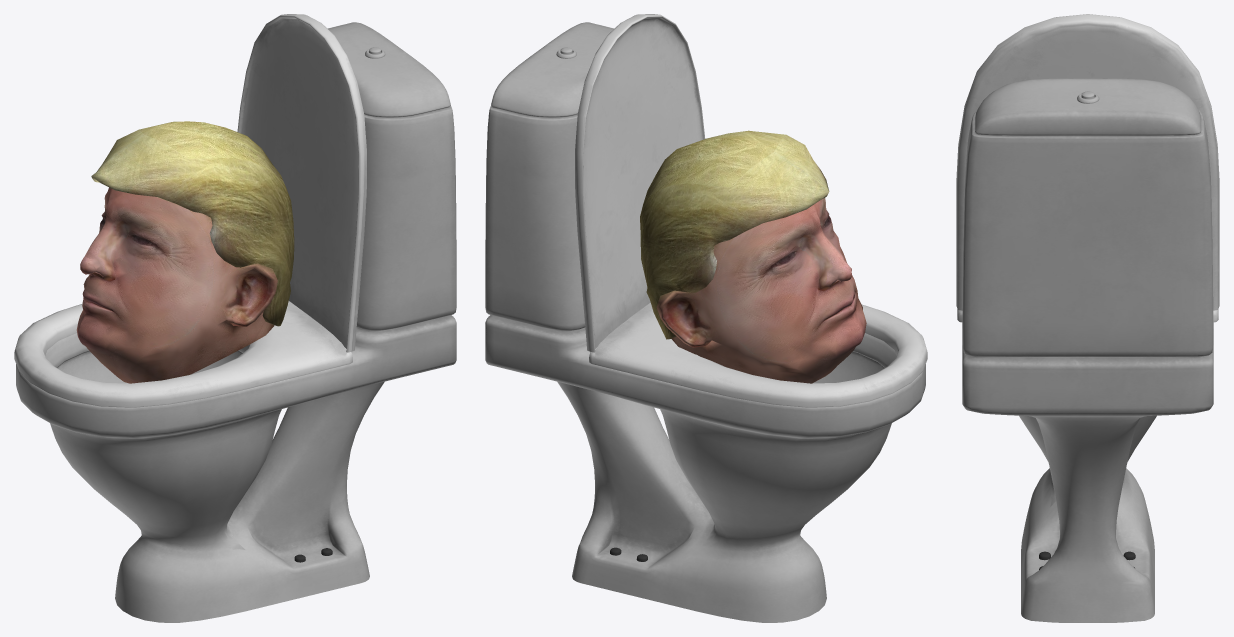
The model's file is d_trump.glb.
The picture shows the model from 3 angles, left to right: view 1: azimuth 30°, elevation 25°; view 2: azimuth 150°, elevation 25°; view 3: azimuth 270°, elevation 25°; orthographic projection. The views are drawn at different scales.
Visible parts, largest first — view 1: Base_LP_1, Seat_LP_3, Plane_1_9, Plane.001_0_7; view 2: Base_LP_1, Seat_LP_3, Plane_1_9, Plane.001_0_7; view 3: Base_LP_1, Seat_LP_3.
Boxes of the visible parts, x1,y1,x2,y2 form: Base_LP_1: (16,22,456,622); Seat_LP_3: (14,14,385,562); Plane_1_9: (76,187,277,383); Plane.001_0_7: (91,121,294,326); Base_LP_1: (485,22,925,622); Seat_LP_3: (556,14,927,561); Plane_1_9: (656,198,866,383); Plane.001_0_7: (640,130,829,339); Base_LP_1: (962,78,1213,622); Seat_LP_3: (956,14,1219,569).
Size of the model in its own units: 1.44 by 2 by 0.8107.
4 materials, 4 textured.
